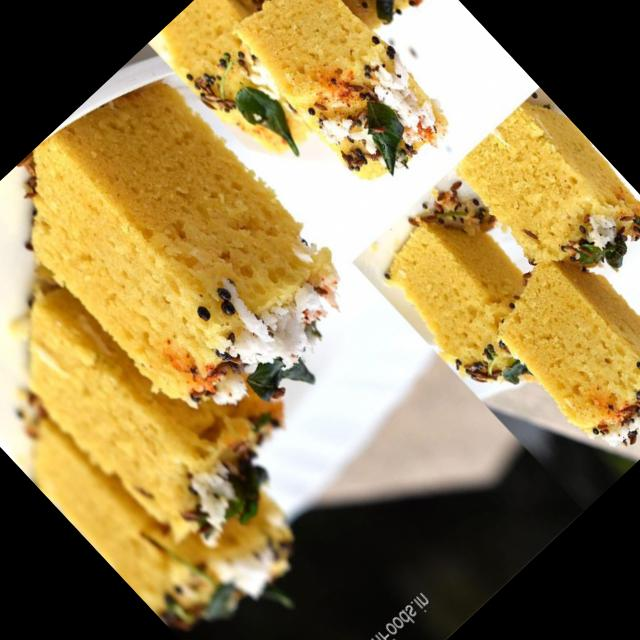dhokla: (0, 79, 463, 640), (365, 90, 640, 497), (153, 0, 516, 239)
